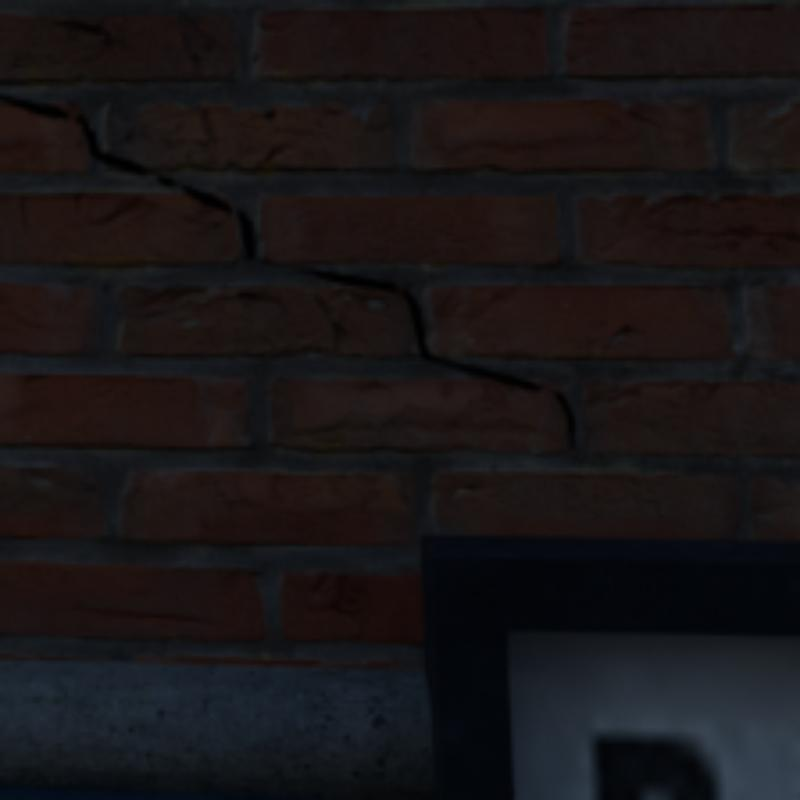crack: (0, 93, 579, 457)
